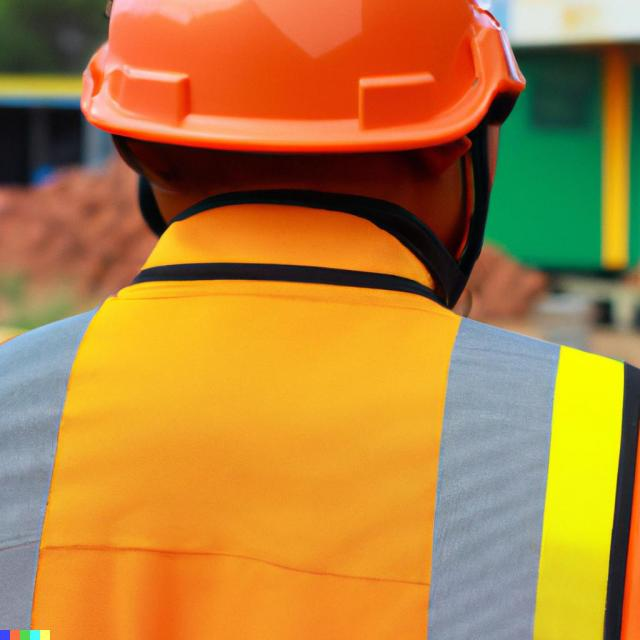Reflective-Jacket: (7, 186, 640, 638)
Safety-Helmet: (79, 5, 532, 154)
